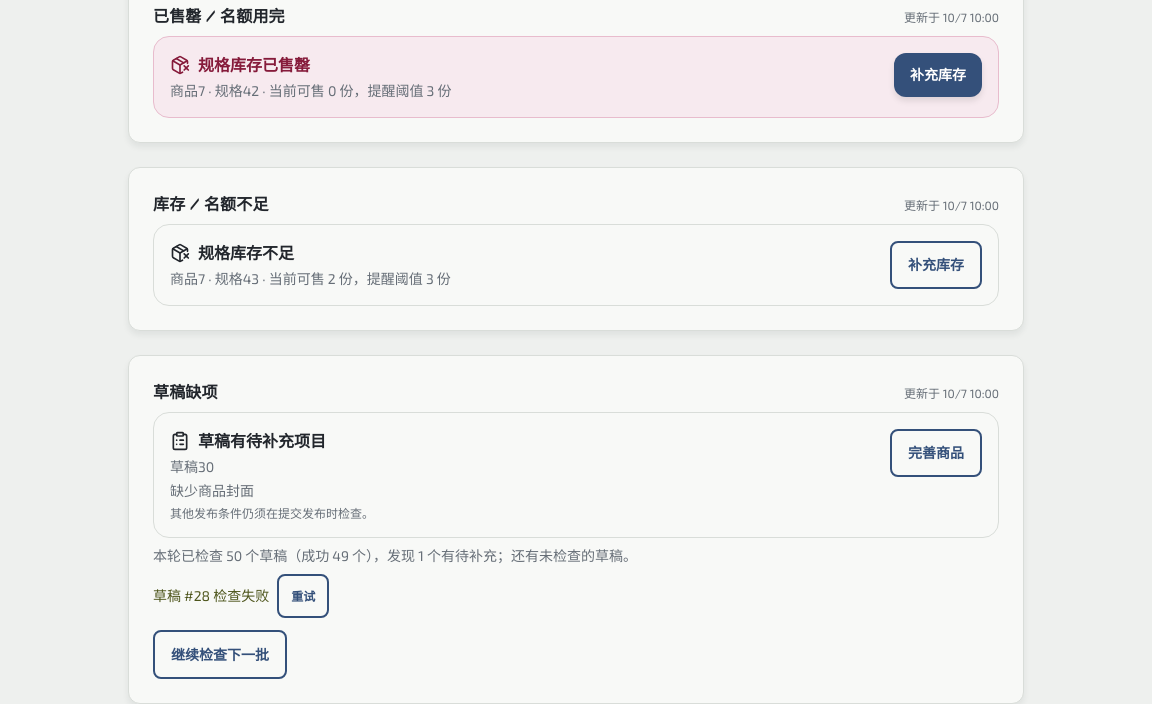
Test: WorkbenchPage › reports draft coverage, continues with the cursor and retries a failed product
(page scrolled)
Check: the text with test id "workbench-draft-coverage" shows "本轮已检查 50 个草稿（成功 49 个），发现 1 个有待补充", box [153,547,637,564]
Step 1. Click the button with test id "workbench-draft-retry-28" → (303, 596), box [277,574,329,618]
(page scrolled)
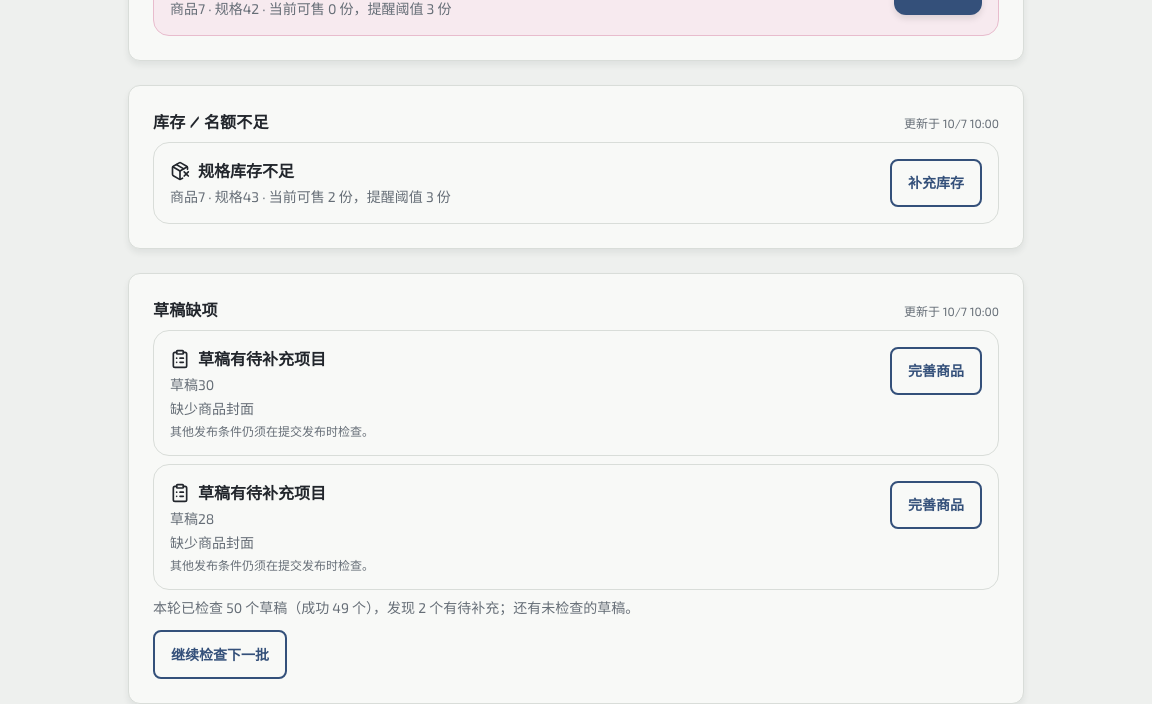
Check: the list item with test id "workbench-card-draft_incomplete:28" is shown, box [153,464,999,590]
Check: the list with test id "workbench-draft-failures" is gone
Step 2. Click the button with test id "workbench-drafts-continue" → (220, 654), box [153,630,287,679]
(page scrolled)
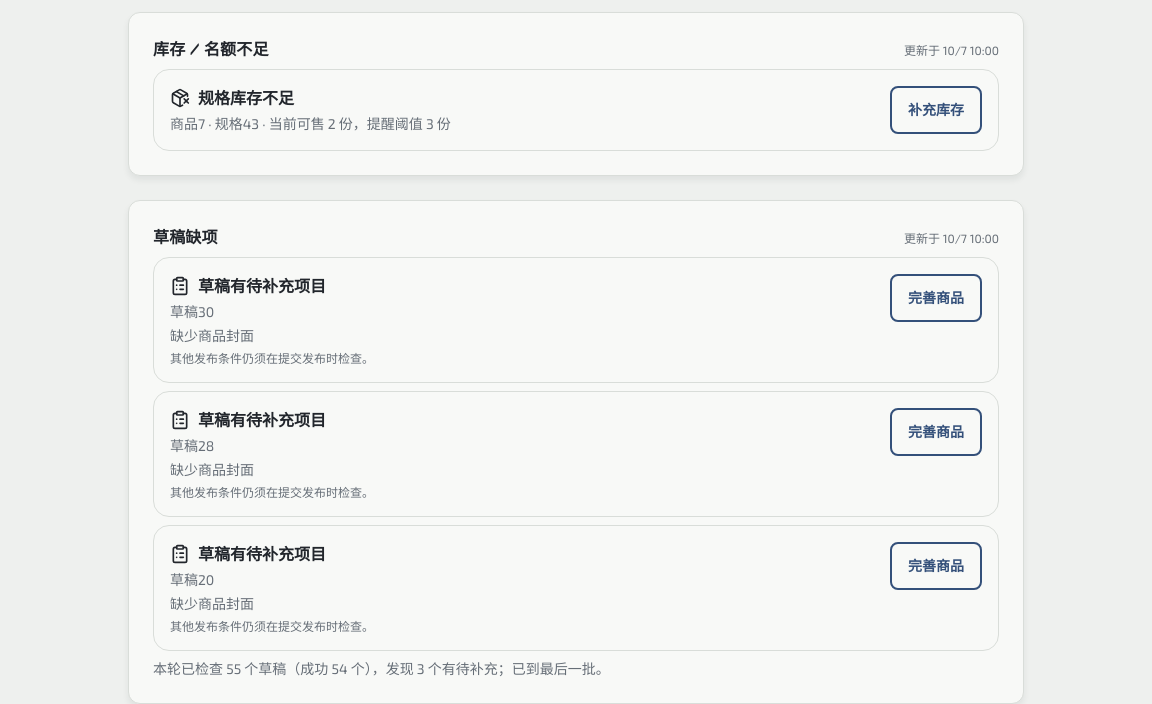
Check: the list item with test id "workbench-card-draft_incomplete:20" is shown, box [153,525,999,651]
Check: the text with test id "workbench-draft-coverage" shows "本轮已检查 55 个草稿", box [153,660,610,677]
Check: the button with test id "workbench-drafts-continue" is gone
